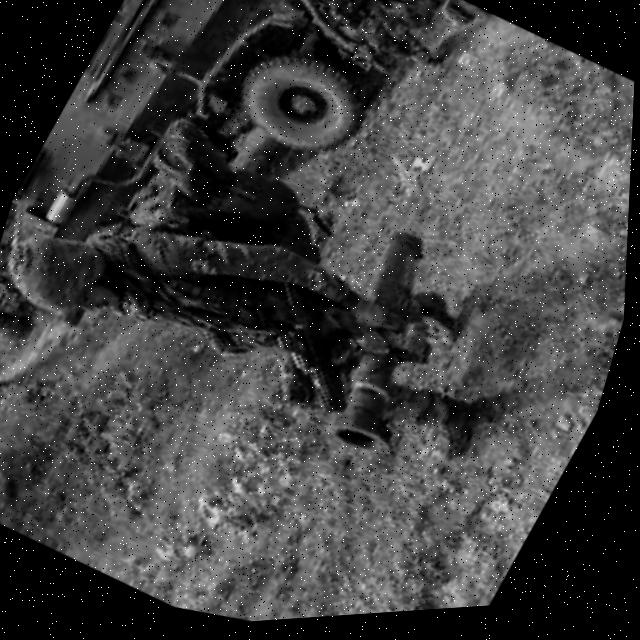rocket: (275, 206, 501, 487)
